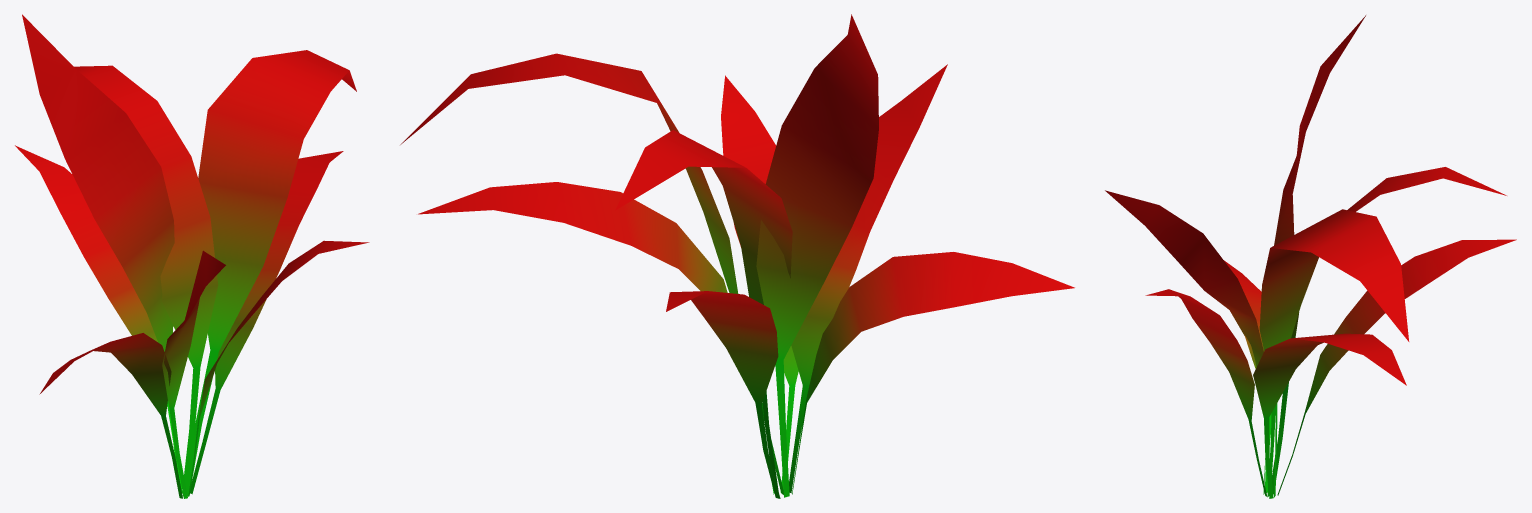
Rendered from Cast - Iron Plant_LOD2_Var5_shdmr.fbx.
3 renders of one model, left to right at view 1: azimuth 30°, elevation 25°; view 2: azimuth 150°, elevation 25°; view 3: azimuth 270°, elevation 25°, orthographic. The views are drawn at different scales.
Parts seen in each view (by area): view 1: _8abb_Var5_LOD2; view 2: _8abb_Var5_LOD2; view 3: _8abb_Var5_LOD2.
Part boxes in pixels (bbox=[...]): _8abb_Var5_LOD2: bbox=[15, 14, 369, 498]; _8abb_Var5_LOD2: bbox=[400, 14, 1074, 498]; _8abb_Var5_LOD2: bbox=[1105, 15, 1516, 498].
Bounding box in the file's own units: 27.58 × 27.93 × 24.17.
